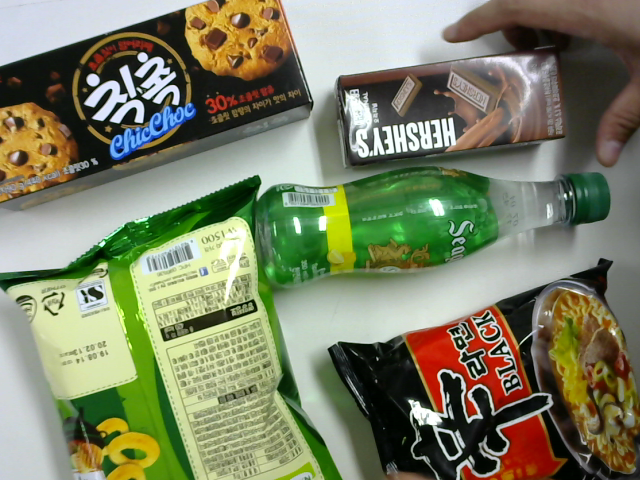Chicchok_Original_2400: (1, 2, 319, 208)
Grilled_Onions: (1, 172, 343, 480)
Hush_Choco_Drink: (335, 48, 571, 170)
Seagram_Lemon_Carbonated_Water: (259, 166, 613, 292)
Sinramen_Black: (317, 254, 640, 475)
